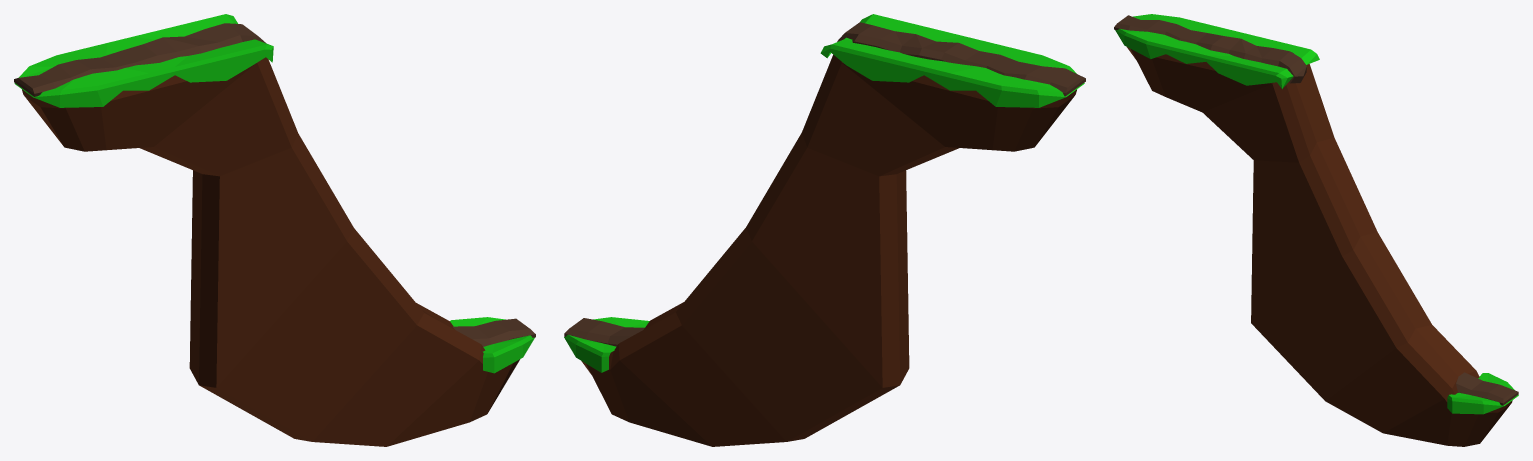
Rendered from block_down2.fbx.
The picture shows the model from 3 angles, left to right: view 1: azimuth 30°, elevation 25°; view 2: azimuth 150°, elevation 25°; view 3: azimuth 330°, elevation 25°; orthographic projection. The views are drawn at different scales.
Parts seen in each view (by area): view 1: block_down2; view 2: block_down2; view 3: block_down2.
Boxes of the visible parts, x1,y1,x2,y2 form: block_down2: (14, 14, 535, 446); block_down2: (564, 14, 1085, 446); block_down2: (1114, 14, 1518, 446).
Size of the model in its own units: 2470 by 2120 by 388.
